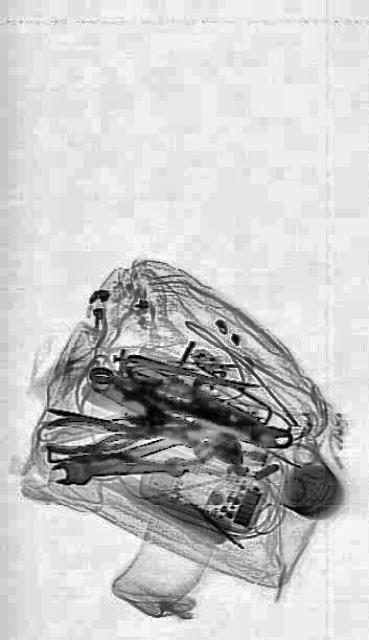Wrench: (50, 451, 190, 485)
